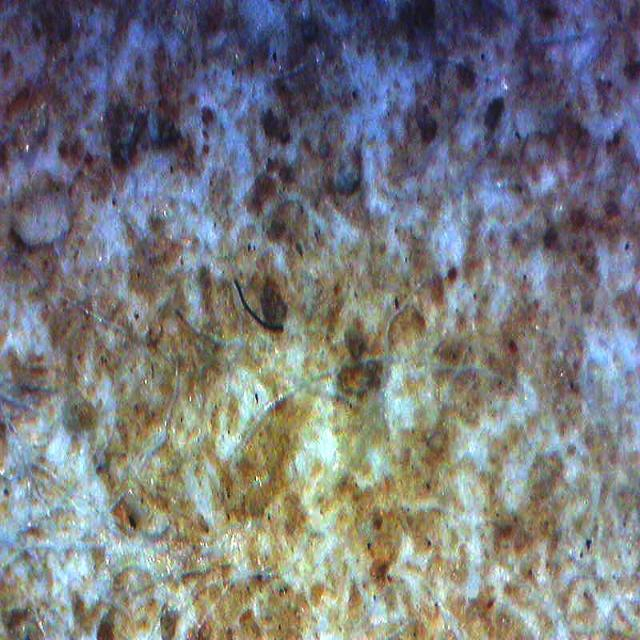microplastic: (234, 280, 284, 332)
